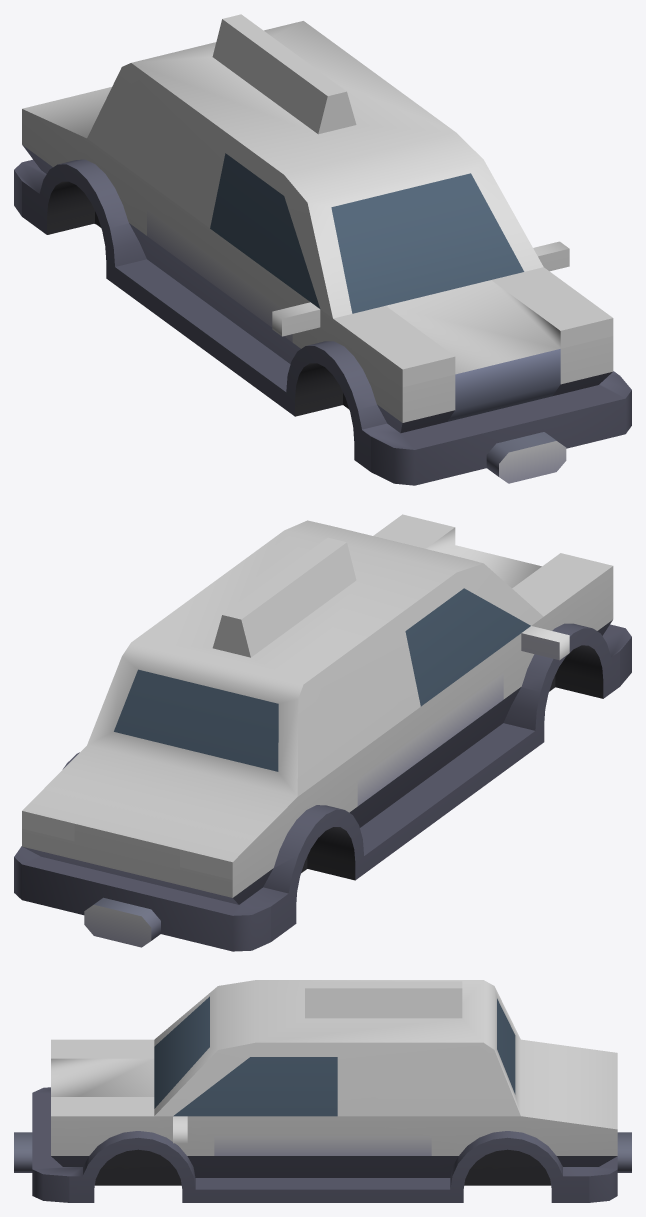
Rendered from taxi.glb.
3 renders of one model, top to bottom at view 1: azimuth 30°, elevation 25°; view 2: azimuth 150°, elevation 25°; view 3: azimuth 270°, elevation 25°, orthographic. The views are drawn at different scales.
Parts seen in each view (by area): view 1: paint, trim, glass, light_sign, light_head; view 2: paint, trim, glass, light_sign, light_tail; view 3: paint, trim, glass, light_sign.
Boxes of the visible parts, left/top/right/bottom form: paint: left=22, top=21, right=613, bottom=422; trim: left=14, top=145, right=631, bottom=485; glass: left=210, top=153, right=524, bottom=313; light_sign: left=212, top=14, right=356, bottom=134; light_head: left=402, top=318, right=613, bottom=386; paint: left=22, top=514, right=613, bottom=897; trim: left=14, top=620, right=631, bottom=951; glass: left=114, top=588, right=530, bottom=771; light_sign: left=212, top=537, right=356, bottom=657; light_tail: left=22, top=811, right=232, bottom=879; paint: left=51, top=980, right=617, bottom=1155; trim: left=14, top=1087, right=631, bottom=1202; glass: left=154, top=996, right=515, bottom=1116; light_sign: left=305, top=981, right=462, bottom=1018.
Bounding box in the file's own units: 1.84 × 1.47 × 4.6.
